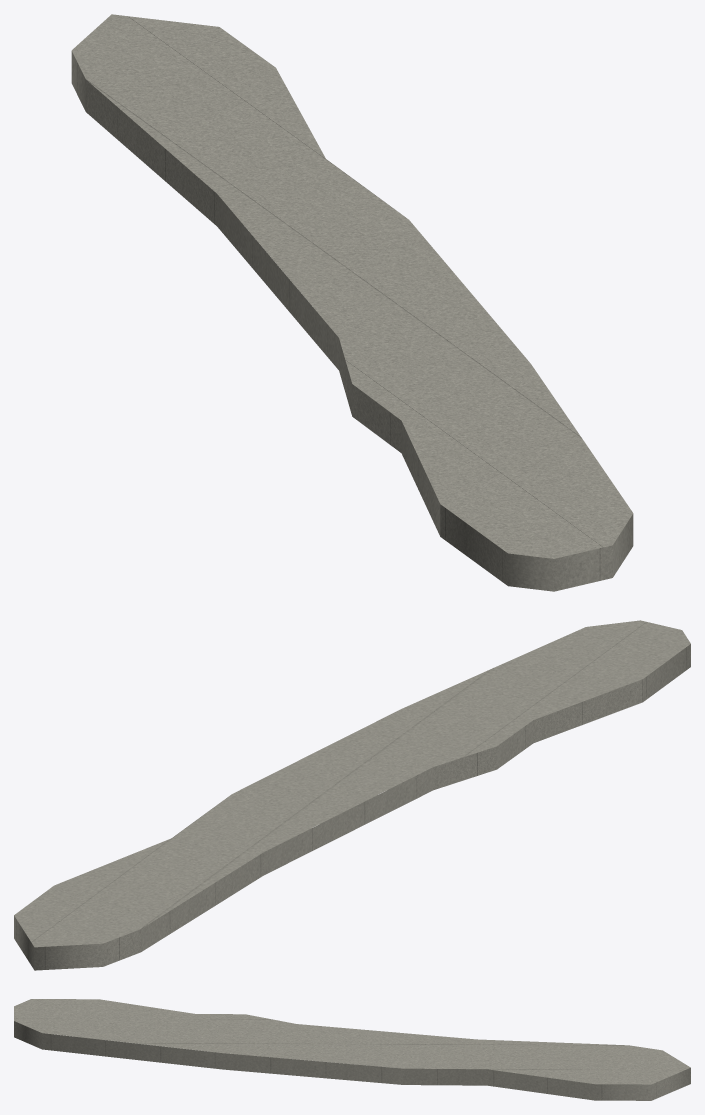
Rendered from curb_07.gltf.
The picture shows the model from 3 angles, top to bottom: view 1: azimuth 30°, elevation 25°; view 2: azimuth 150°, elevation 25°; view 3: azimuth 270°, elevation 25°; orthographic projection. The views are drawn at different scales.
Visible parts, largest first — view 1: curb_07.surface, curb_07.sides; view 2: curb_07.surface, curb_07.sides; view 3: curb_07.surface, curb_07.sides.
Part boxes in pixels (left/top/right/bottom): curb_07.surface: left=71, top=14, right=633, bottom=558; curb_07.sides: left=71, top=51, right=633, bottom=591; curb_07.surface: left=14, top=620, right=690, bottom=947; curb_07.sides: left=14, top=644, right=690, bottom=970; curb_07.surface: left=14, top=999, right=690, bottom=1084; curb_07.sides: left=14, top=1021, right=690, bottom=1100.
Size of the model in its own units: 1.7 by 0.2031 by 6.
Materials: 1 (1 with a texture image).
